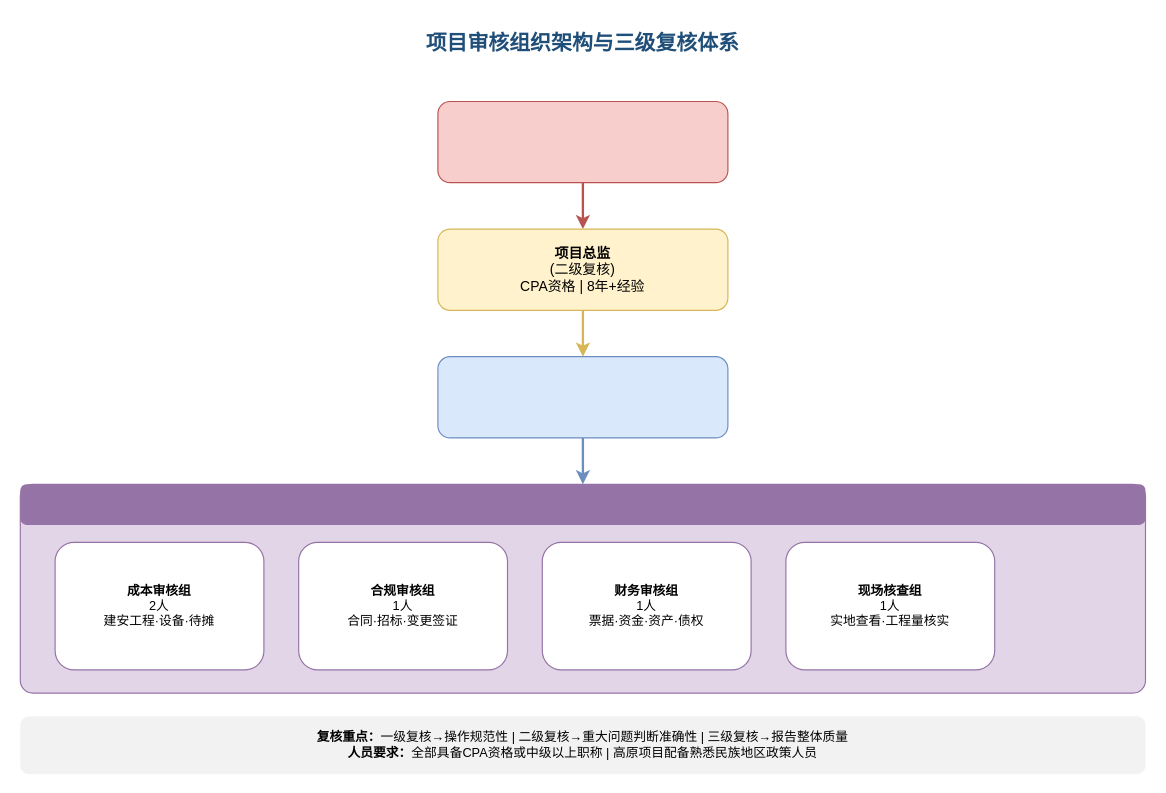
This 1166x793 diagram has some shape labels left out. Each missing label, with the centre of its shape:
"技术委员会 (三级复核) 资深专家集体审议" belongs at pixel 582 141.
"项目执行层 (5人)" belongs at pixel 582 504.
"项目经理 (一级复核) CPA资格 | 全面负责" belongs at pixel 582 397.
